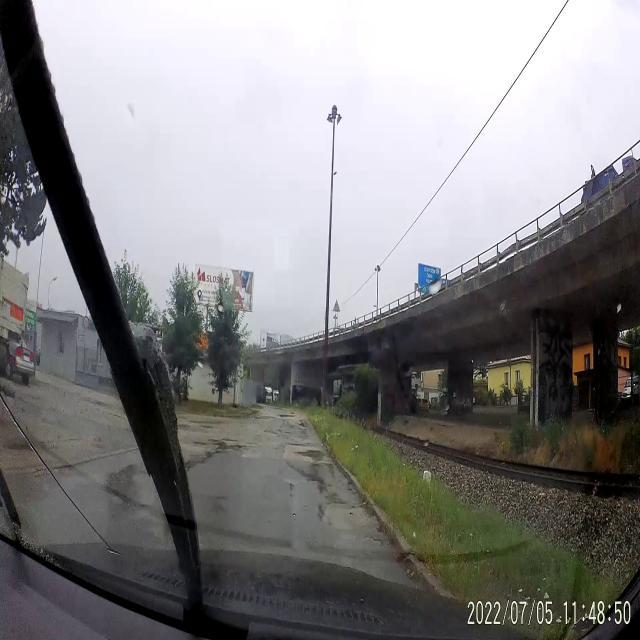Pothole: (320, 498, 376, 532), (296, 444, 324, 468)
